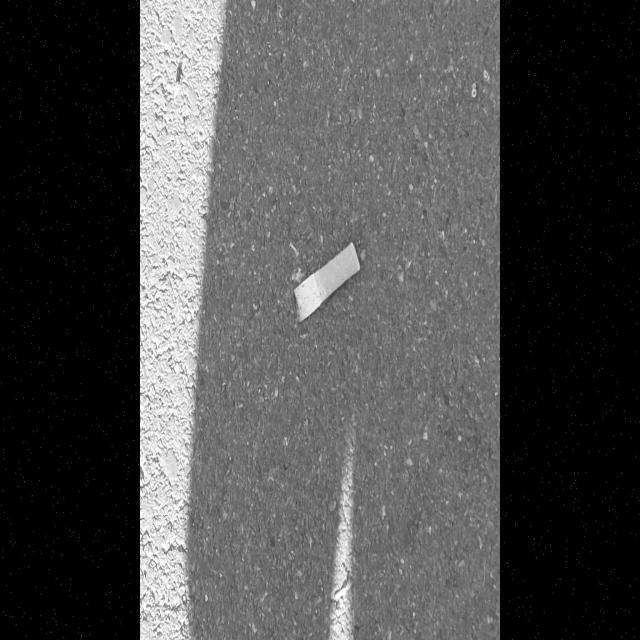other waste: (292, 240, 360, 323)
